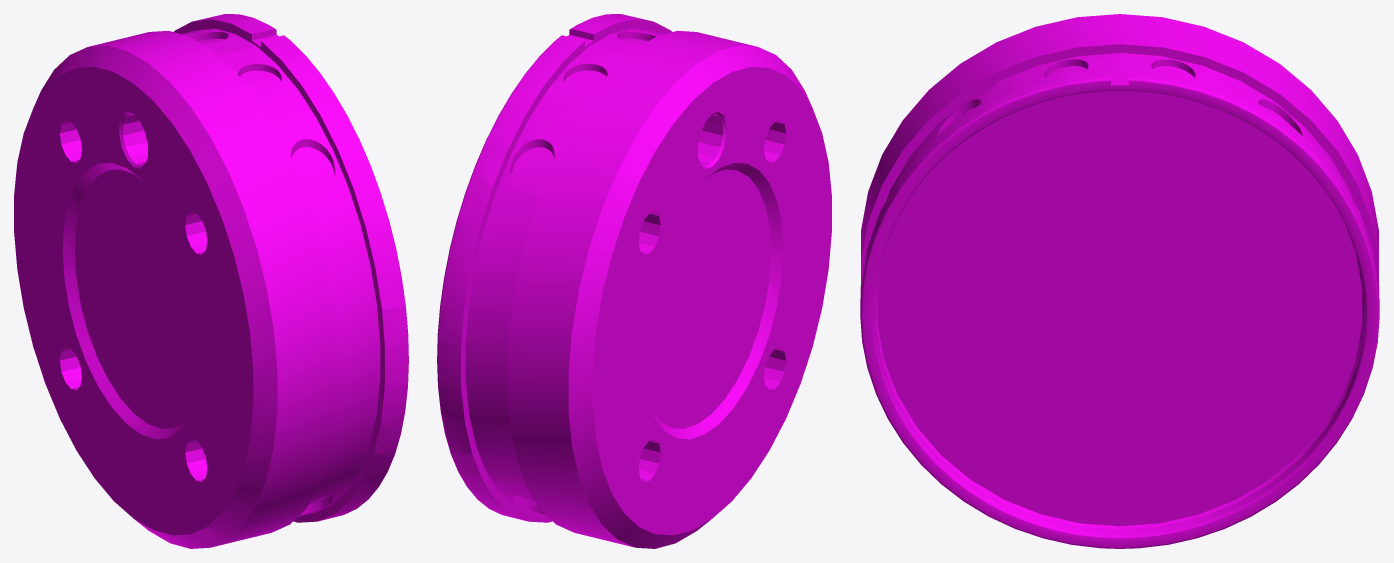
3 renders of one model, left to right at view 1: azimuth 30°, elevation 25°; view 2: azimuth 150°, elevation 25°; view 3: azimuth 270°, elevation 25°, orthographic.
Visible parts, largest first — view 1: solid_myCobot_320_M5_2022v1.2_230708_-___________W-J6____-0_; view 2: solid_myCobot_320_M5_2022v1.2_230708_-___________W-J6____-0_; view 3: solid_myCobot_320_M5_2022v1.2_230708_-___________W-J6____-0_.
Part boxes in pixels (x1,y1,x2,y2): solid_myCobot_320_M5_2022v1.2_230708_-___________W-J6____-0_: [14, 14, 408, 548]; solid_myCobot_320_M5_2022v1.2_230708_-___________W-J6____-0_: [437, 14, 831, 548]; solid_myCobot_320_M5_2022v1.2_230708_-___________W-J6____-0_: [860, 14, 1379, 548].
Size of the model in its own units: 19.2 by 58.16 by 58.16.
